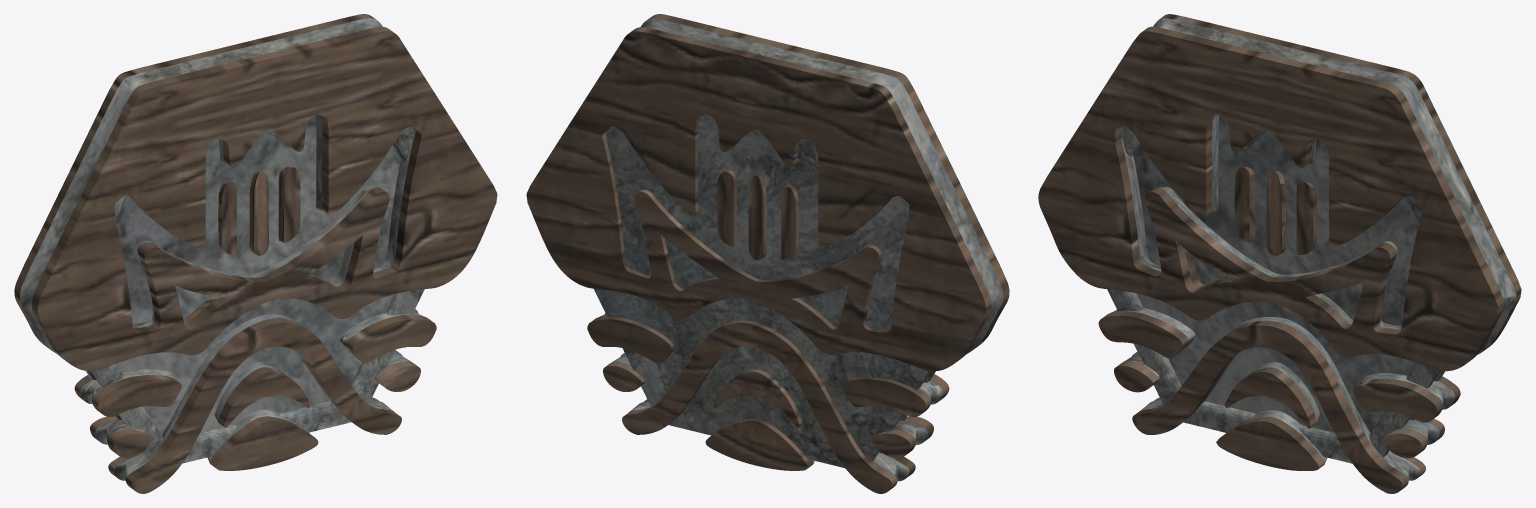
Rendered from common_platform.glb.
3 renders of one model, left to right at view 1: azimuth 30°, elevation 25°; view 2: azimuth 150°, elevation 25°; view 3: azimuth 330°, elevation 25°, orthographic.
Parts seen in each view (by area): view 1: common_platform; view 2: common_platform; view 3: common_platform.
Part boxes in pixels (bbox=[...]): common_platform: bbox=[14, 14, 497, 493]; common_platform: bbox=[526, 14, 1009, 493]; common_platform: bbox=[1038, 14, 1521, 493].
Bounding box in the file's own units: 0.5961 × 0.5026 × 0.0527.
1 material, 1 textured.
